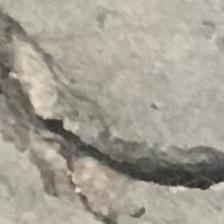Crack: (0, 12, 224, 203)
